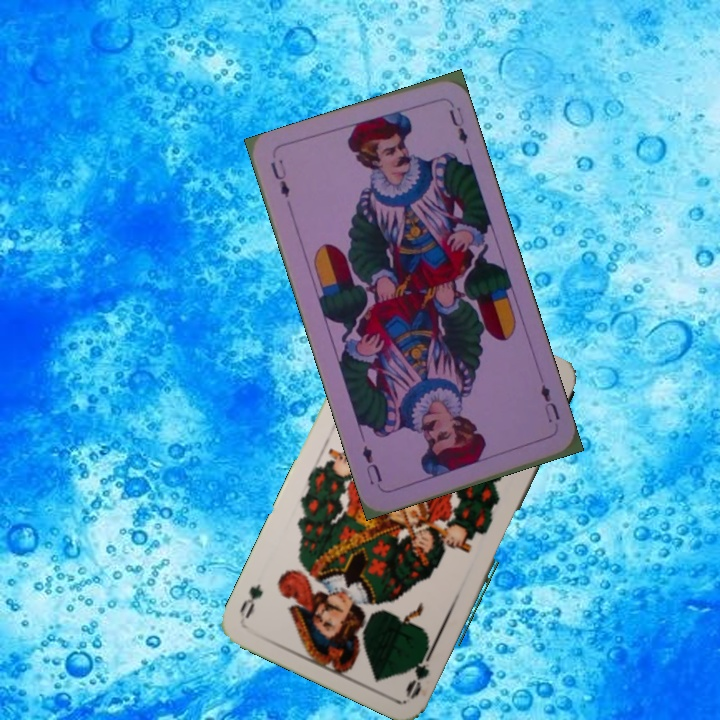EU: (536, 380, 563, 425), (266, 155, 293, 200)
GO: (401, 642, 437, 700)
